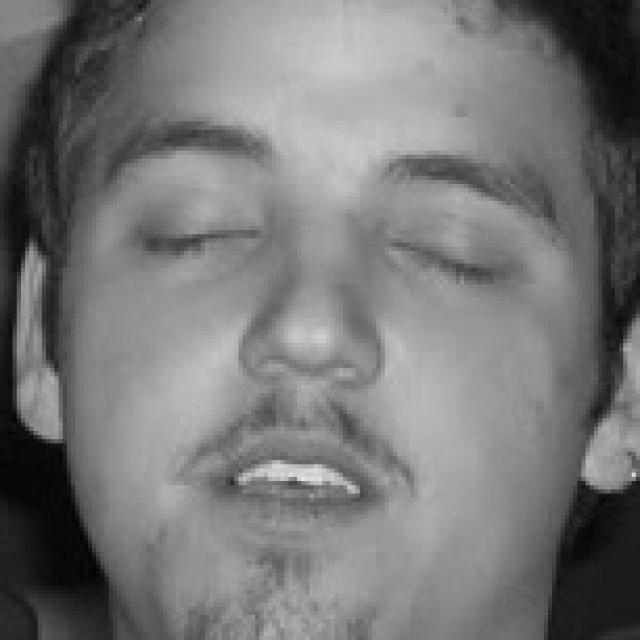real: (61, 0, 597, 640), (122, 190, 522, 303)
